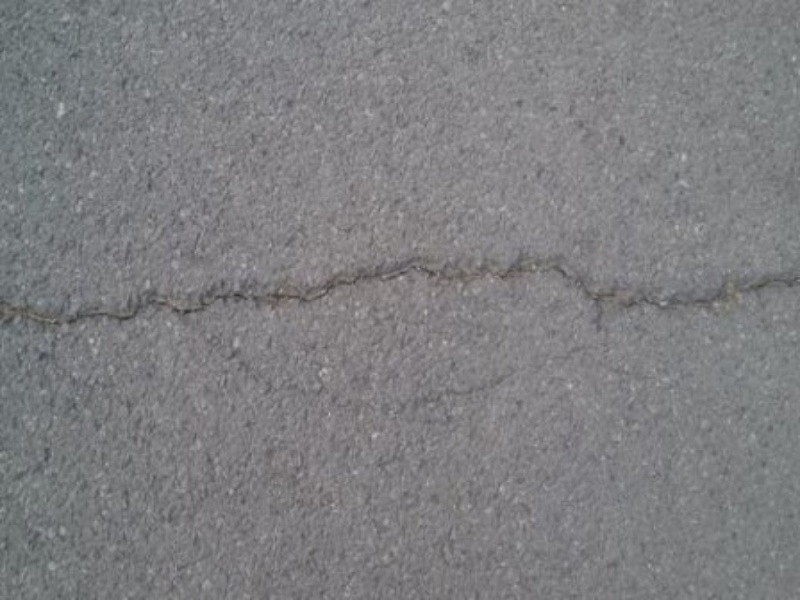crack: (23, 233, 798, 396)
